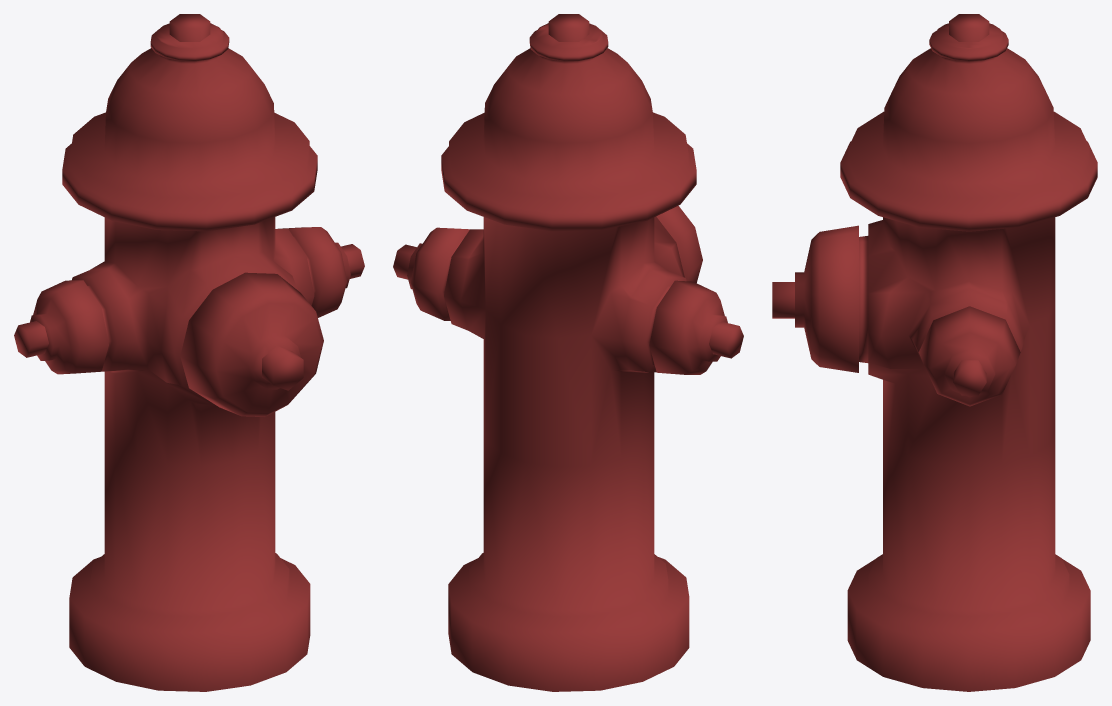
File: Hidrante.fbx
The picture shows the model from 3 angles, left to right: view 1: azimuth 30°, elevation 25°; view 2: azimuth 150°, elevation 25°; view 3: azimuth 270°, elevation 25°; orthographic projection.
Parts seen in each view (by area): view 1: Hidrante; view 2: Hidrante; view 3: Hidrante.
Part boxes in pixels (x1,y1,x2,y2): Hidrante: [14, 14, 364, 691]; Hidrante: [393, 14, 743, 691]; Hidrante: [772, 14, 1097, 691].
Size of the model in its own units: 42.06 by 74.53 by 35.5.
